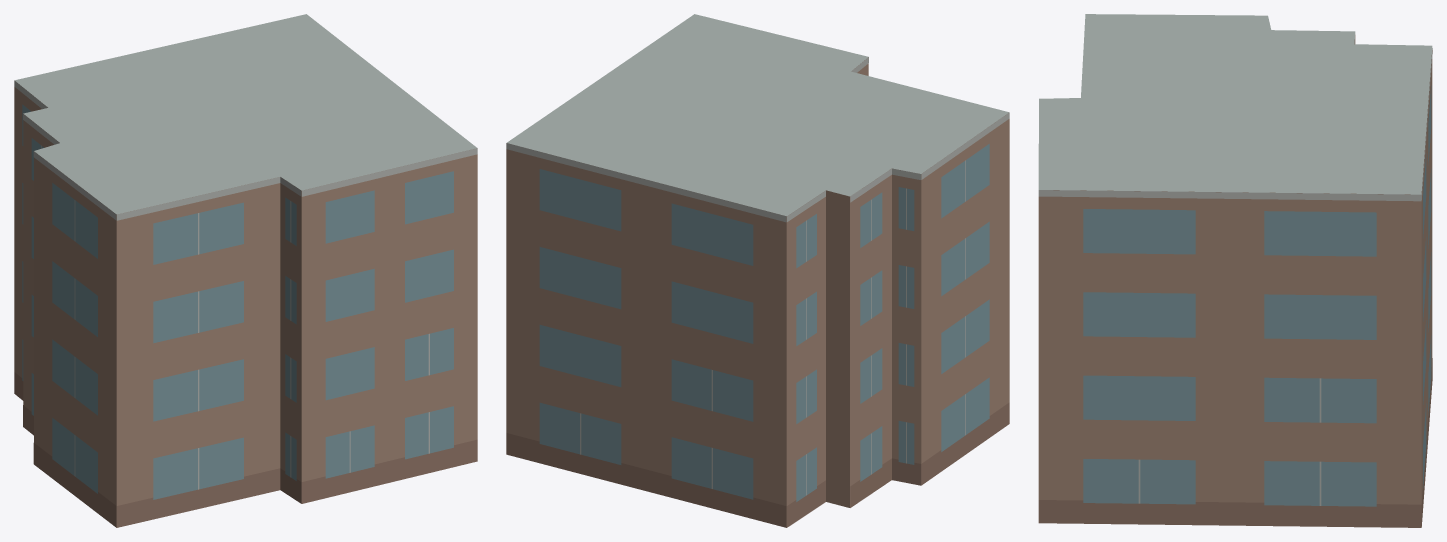
File: survey-upis-32627894.glb
3 renders of one model, left to right at view 1: azimuth 30°, elevation 25°; view 2: azimuth 150°, elevation 25°; view 3: azimuth 270°, elevation 25°, orthographic. The views are drawn at different scales.
Parts seen in each view (by area): view 1: survey-upis-32627894.tmp; view 2: survey-upis-32627894.tmp; view 3: survey-upis-32627894.tmp.
Boxes of the visible parts, x1=… form: survey-upis-32627894.tmp: x1=14, y1=14, x2=477, y2=527; survey-upis-32627894.tmp: x1=506, y1=14, x2=1009, y2=527; survey-upis-32627894.tmp: x1=1038, y1=14, x2=1432, y2=527.
Size of the model in its own units: 14.19 by 12.2 by 13.08.
